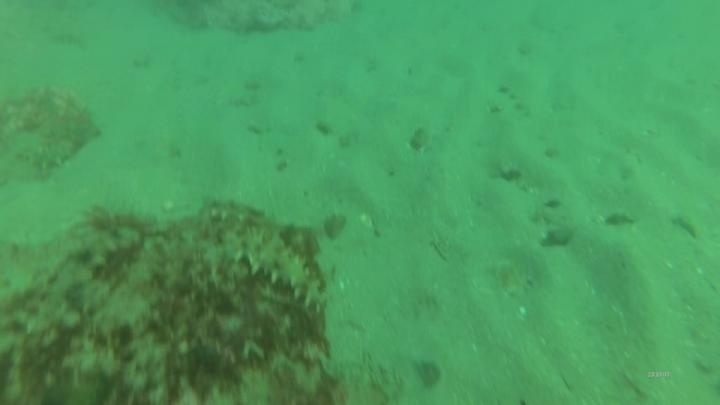holothurian: (2, 83, 103, 176), (232, 225, 330, 314), (195, 194, 270, 231)
